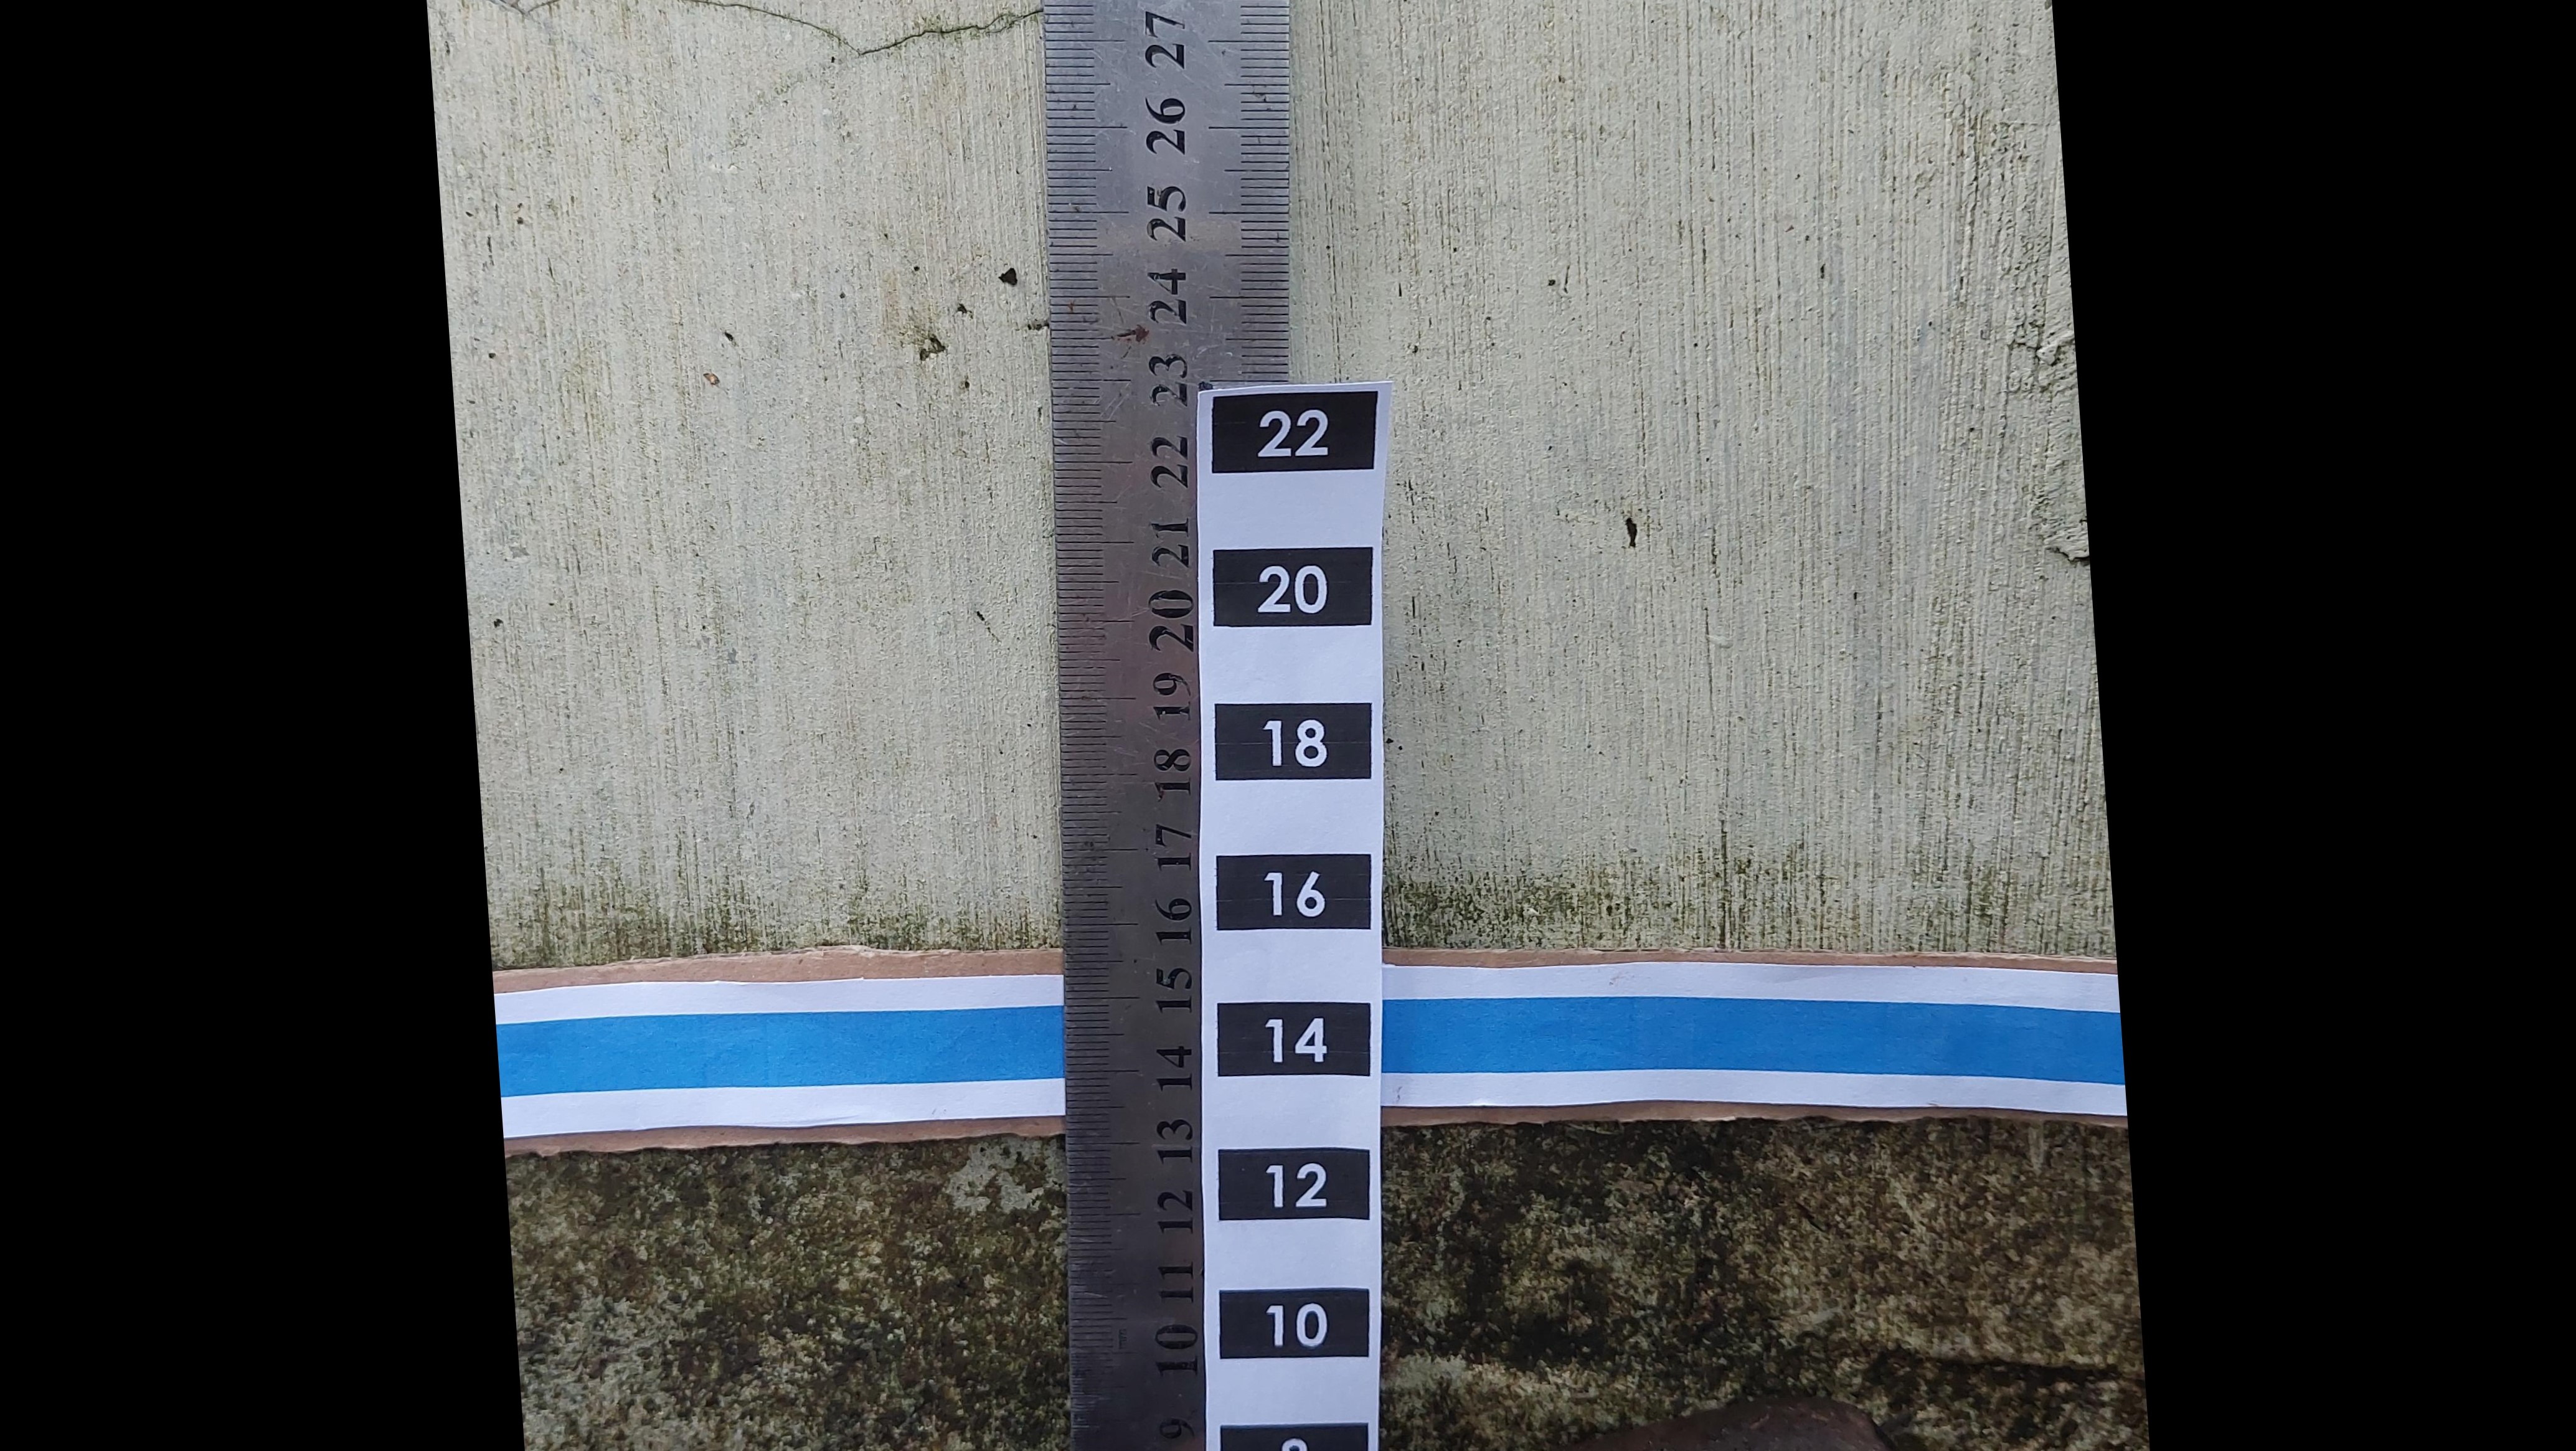kotak_2x1: (1214, 549, 1371, 628), (1215, 701, 1373, 780), (1212, 395, 1375, 471), (1219, 851, 1369, 927), (1219, 1002, 1369, 1078), (1219, 1286, 1368, 1359), (1219, 1148, 1369, 1219)
